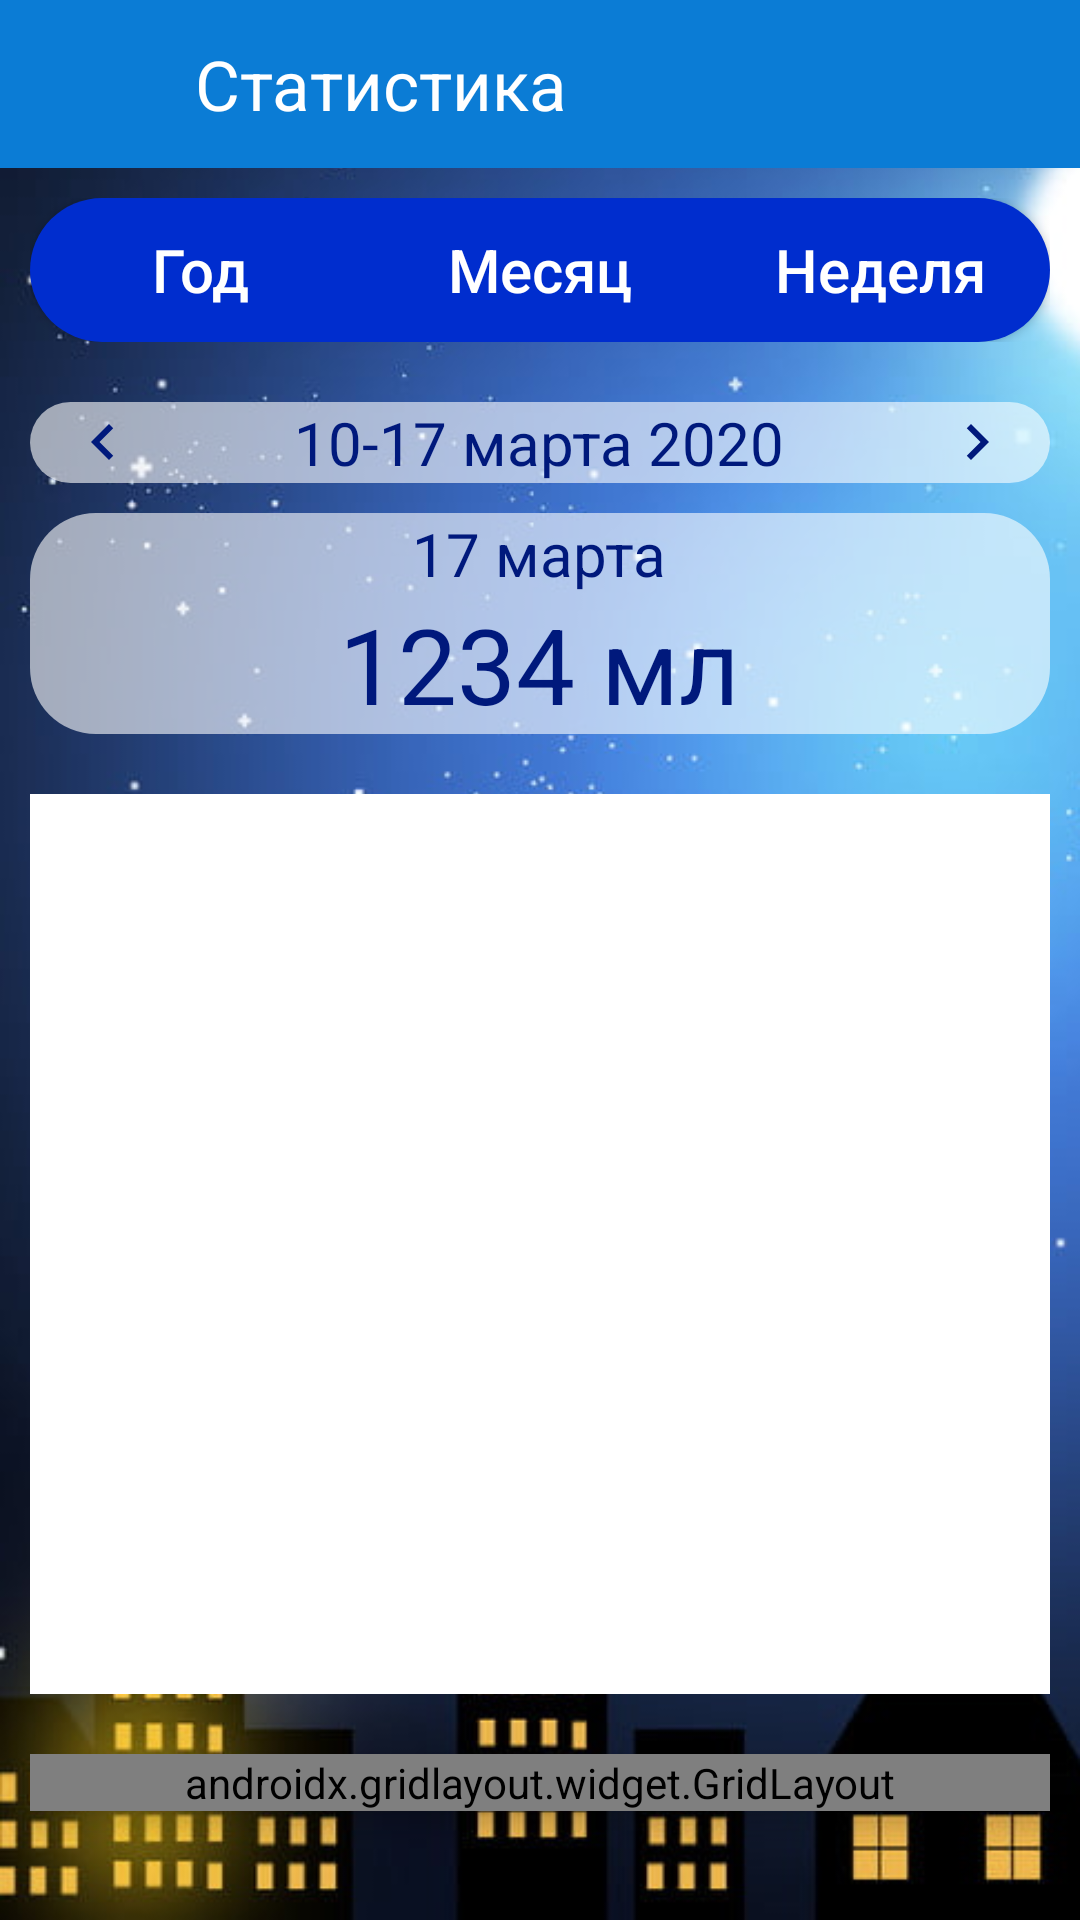

Where to tap for icons on this 1080px×1920px app screen, as point (x, y):
chevron left: point (102, 442)
chevron right: point (977, 442)
